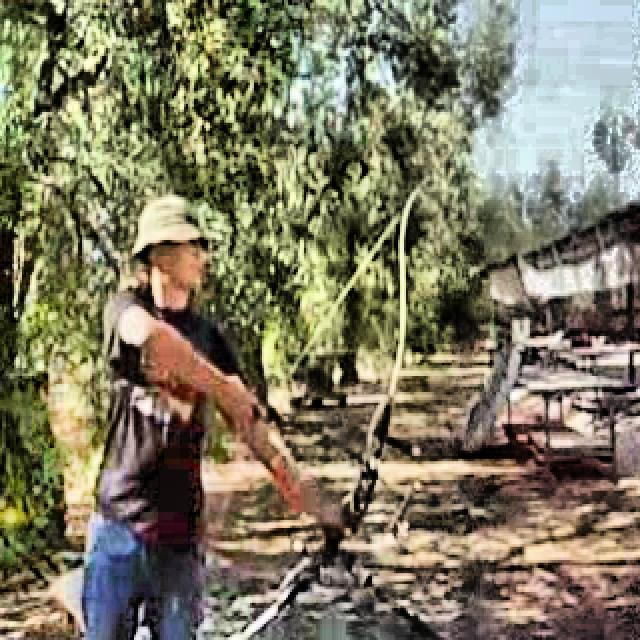I: (63, 177, 368, 640)
